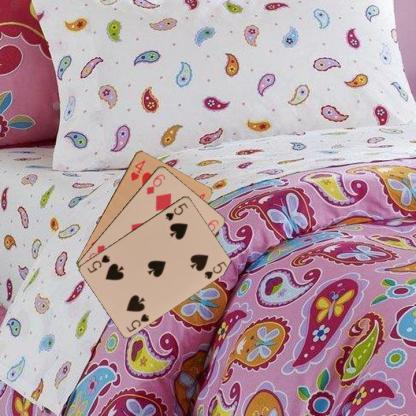4h: (128, 156, 146, 182)
5s: (163, 200, 189, 222), (124, 311, 150, 333)
6d: (144, 171, 167, 195)
